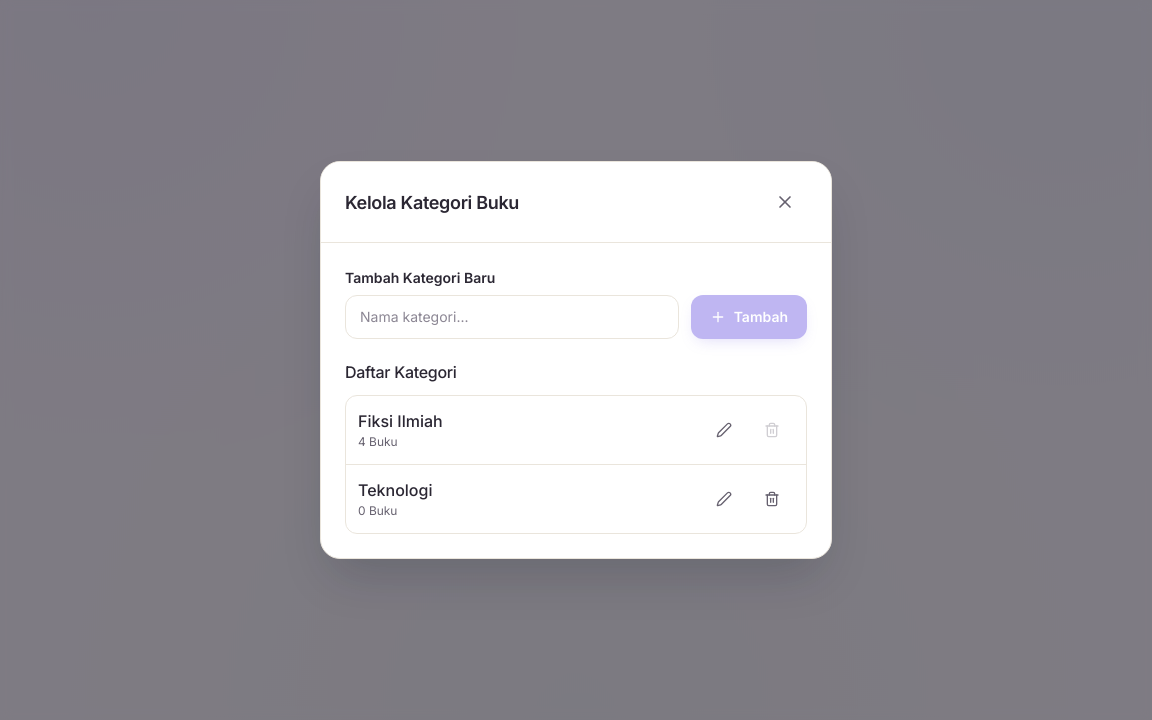
Test: CategoryFormModal Component › should display API error message when category creation fails
Expected: the text "Fiksi Ilmiah" is shown, [358,408,443,433]
Step 1. Type "Fiksi Ilmiah" into the field with placeholder "Nama kategori..." → (512, 317), box [345,295,679,339]
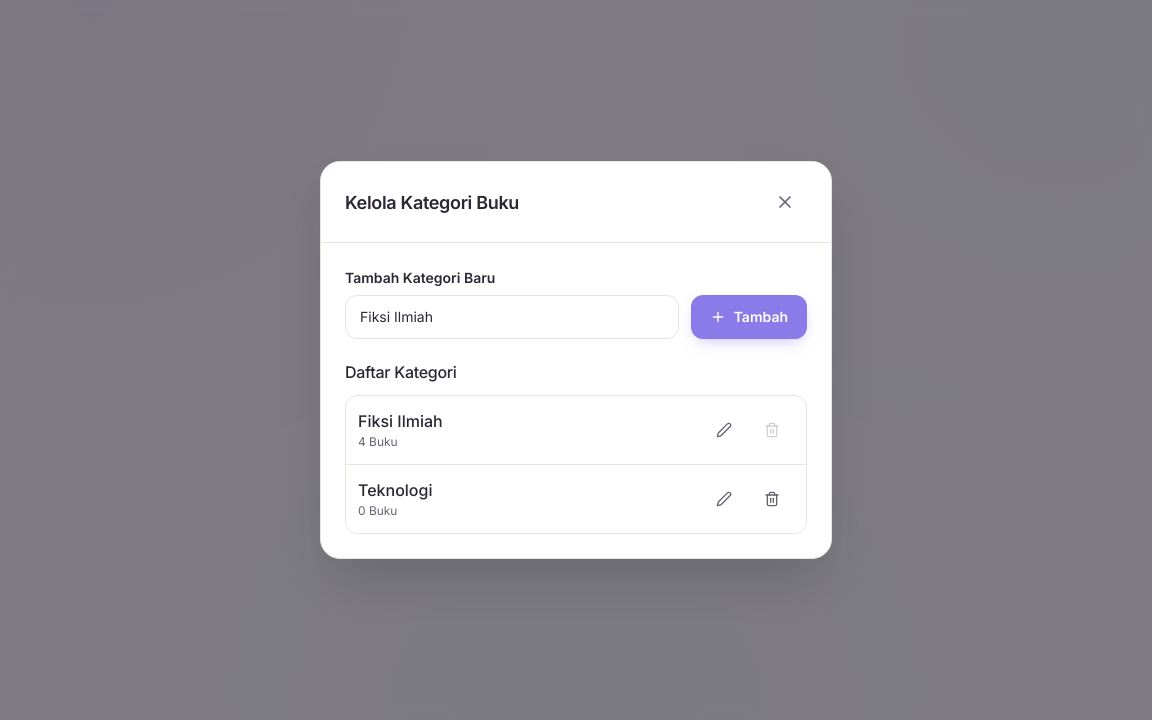
Step 2. Click the button "Tambah" → (749, 317), box [691,295,807,339]
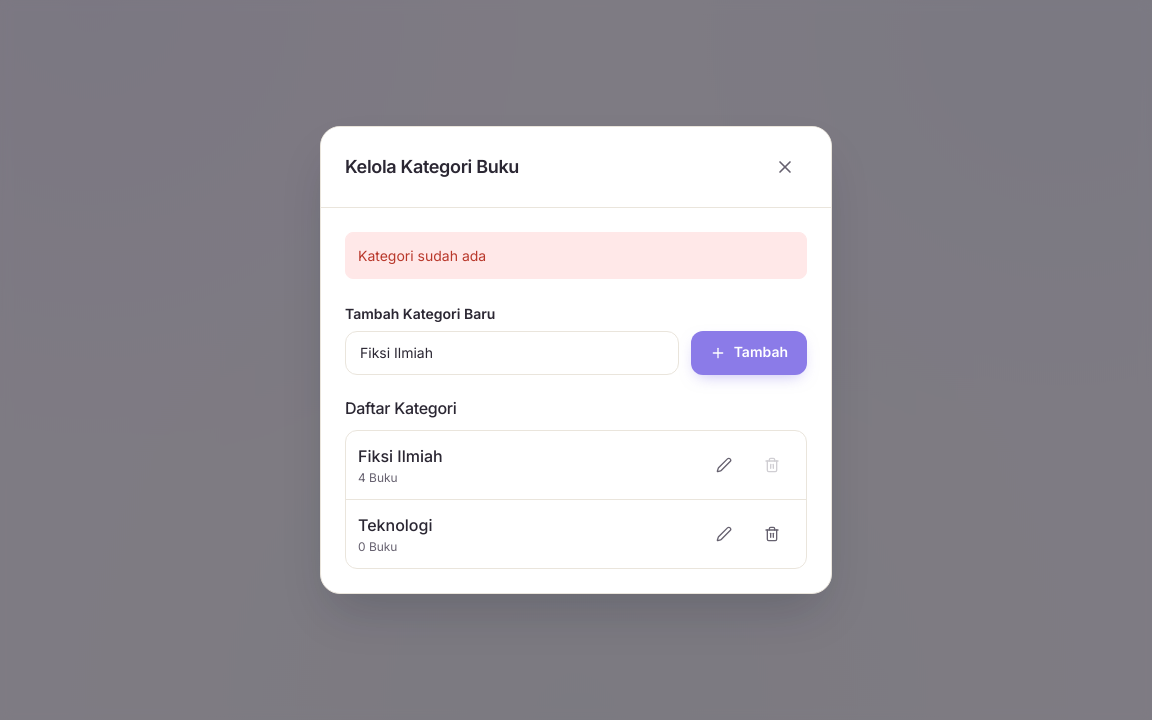
Result: the message reads "Kategori sudah ada" at [358,247,486,264]
